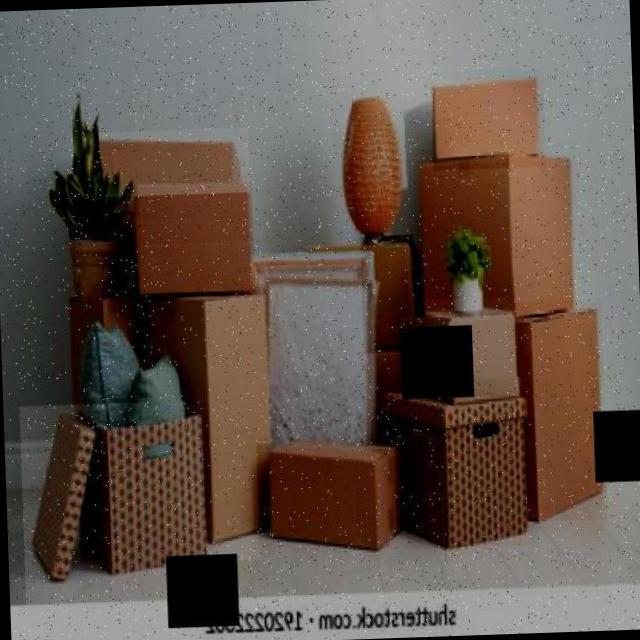box: (18, 400, 208, 609), (143, 294, 275, 562), (412, 142, 582, 329), (381, 376, 537, 550), (514, 298, 608, 522), (255, 438, 406, 558), (133, 180, 255, 298), (84, 126, 250, 198), (430, 68, 546, 170), (63, 294, 148, 433), (424, 296, 524, 411), (360, 234, 418, 354)
